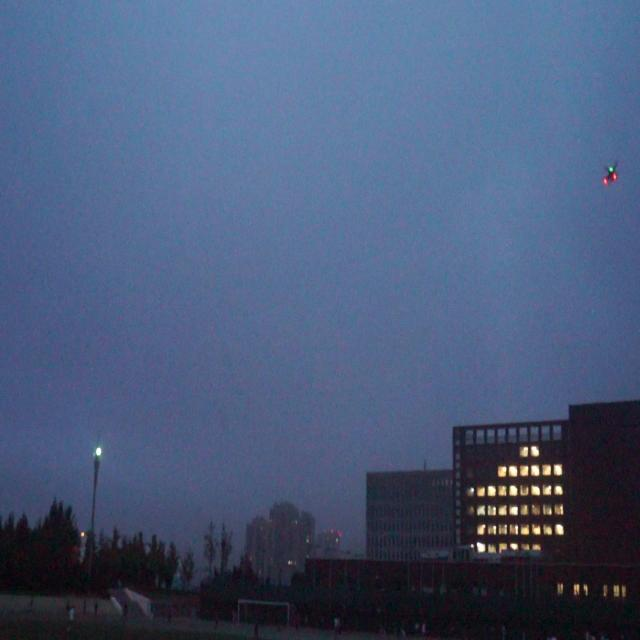UAV: (602, 160, 619, 186)
